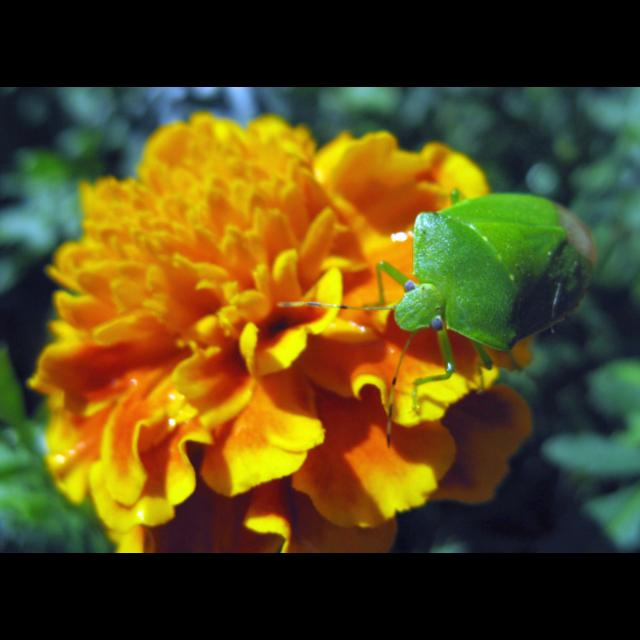Flower: (38, 105, 544, 532)
